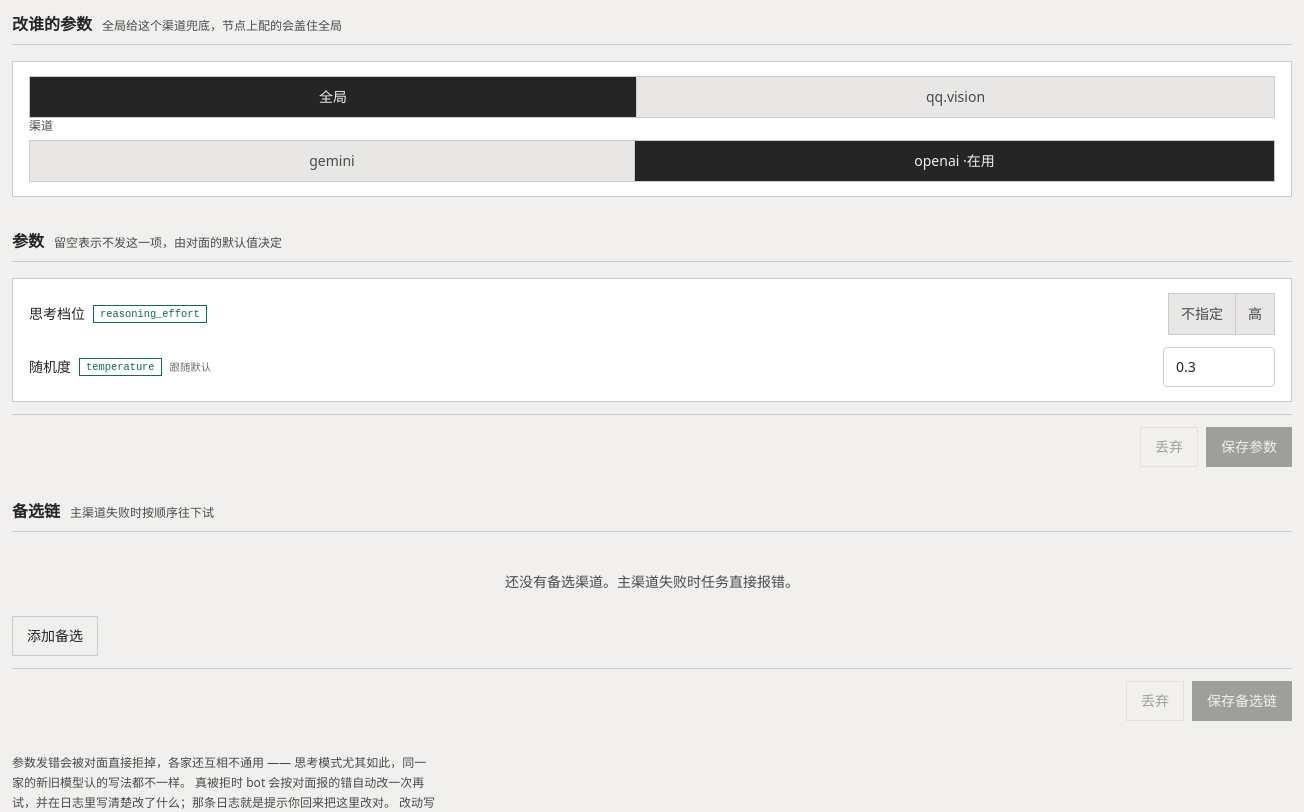
Test: 模型参数页 › 全局参数照实际在用的值显示，本实例没写的标出跟随默认
Expected: the text "跟随默认" is shown, left=170, top=359, right=211, bottom=375
Replace the text in the field named "随机度" with "0.7": (1219, 367) left=1163, top=347, right=1275, bottom=387
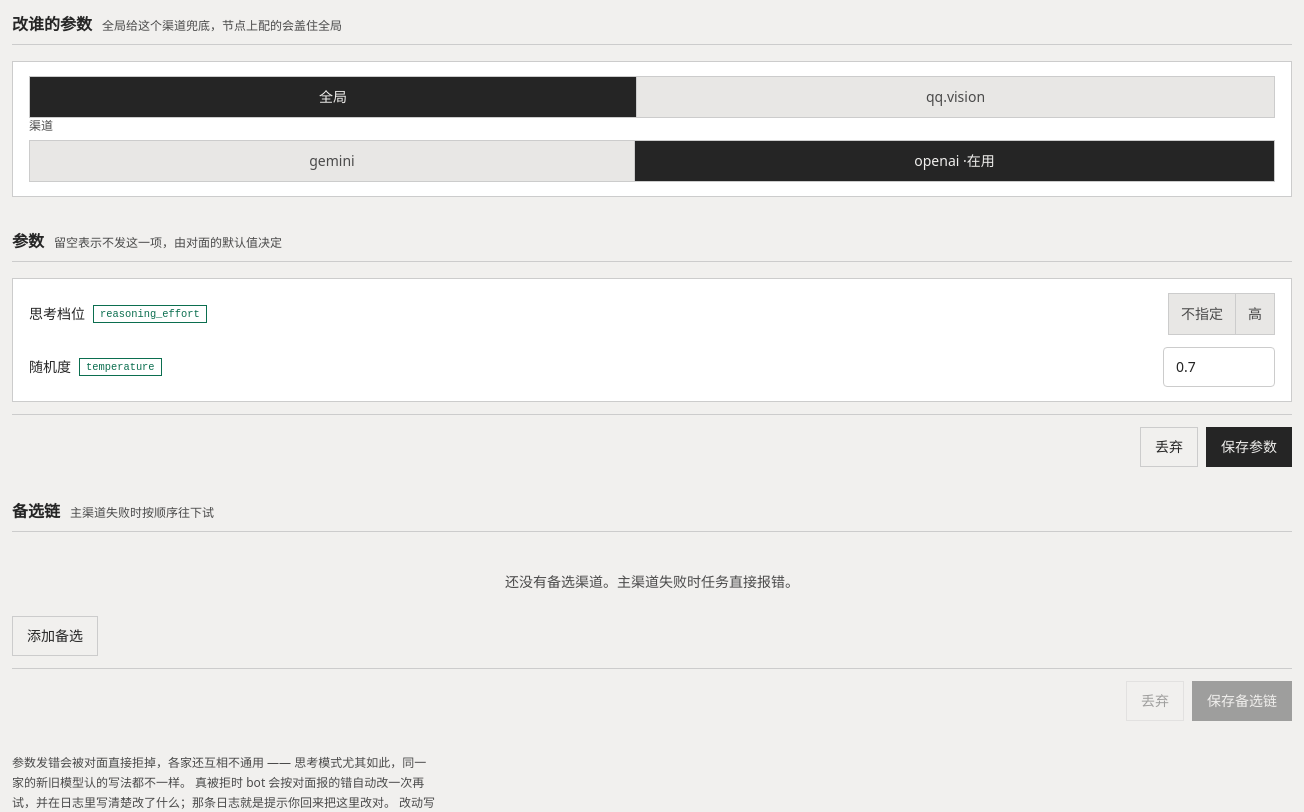
Expected: the text "跟随默认" is gone
